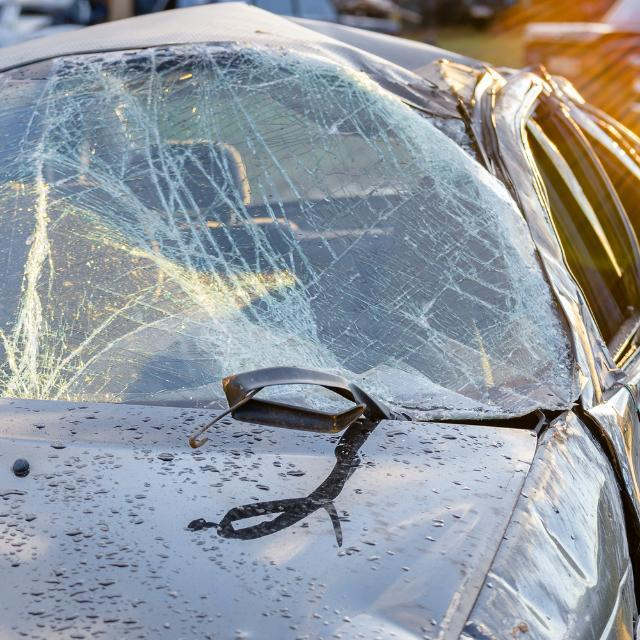dent: (237, 1, 505, 180), (451, 427, 611, 640), (498, 122, 605, 405)
glass shatter: (0, 41, 583, 420)
